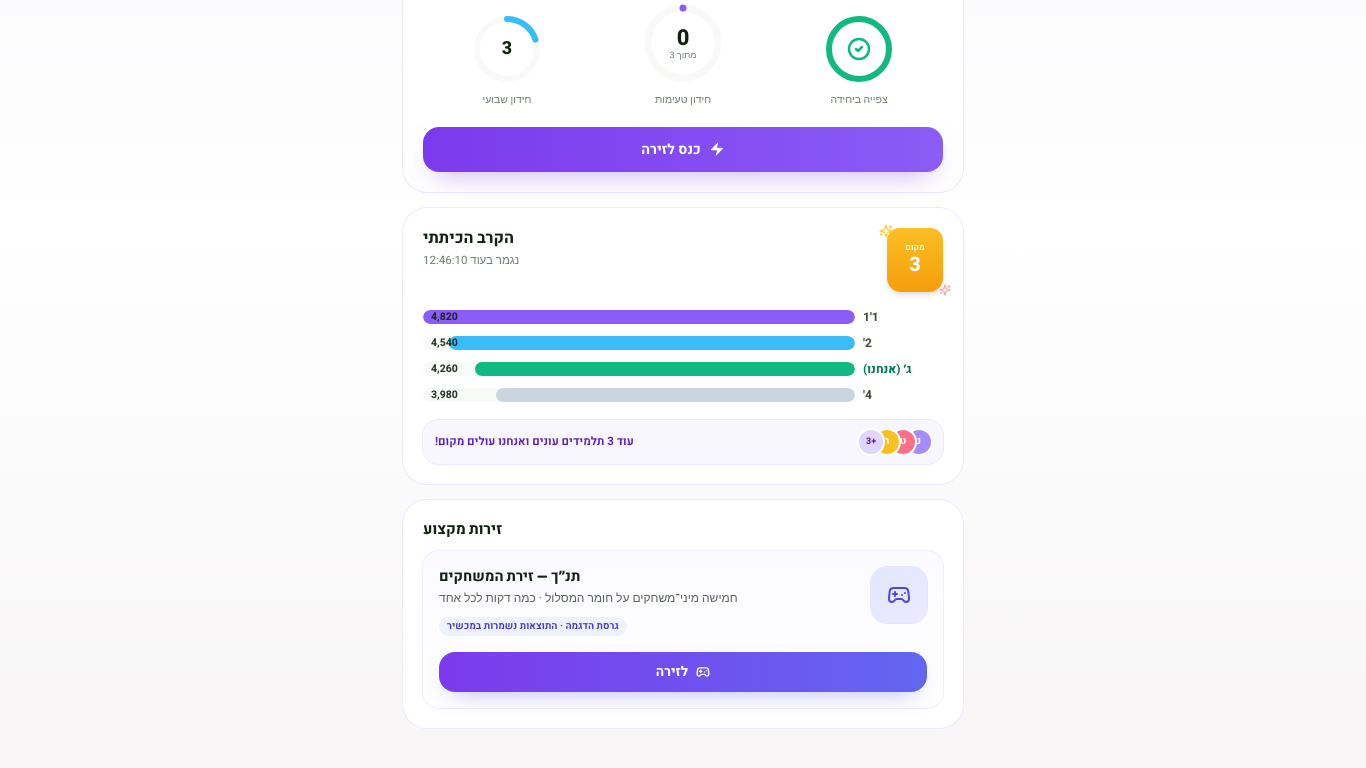
it: play hub links to the Tanakh arena › navigates to the arena route, not somewhere else
(page scrolled)
Step 1. Click the button "לזירה" → (683, 672), box [439,652,927,692]
(page scrolled)
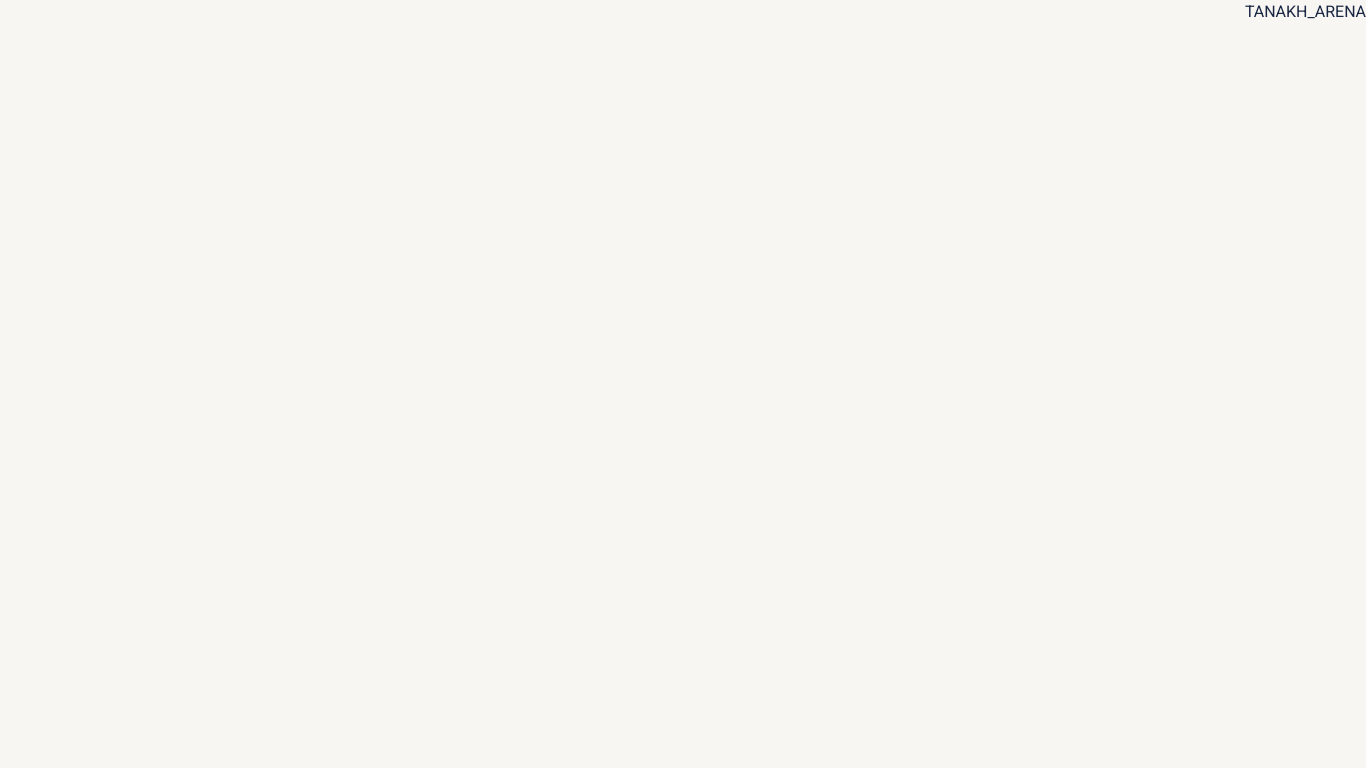
Expected: the text "TANAKH_ARENA" is shown, [1245,0,1365,24]
